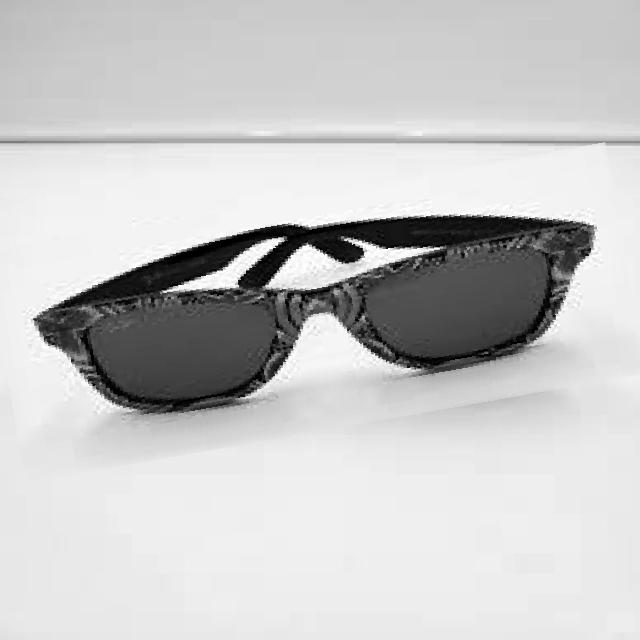glasses: (0, 168, 637, 456)
